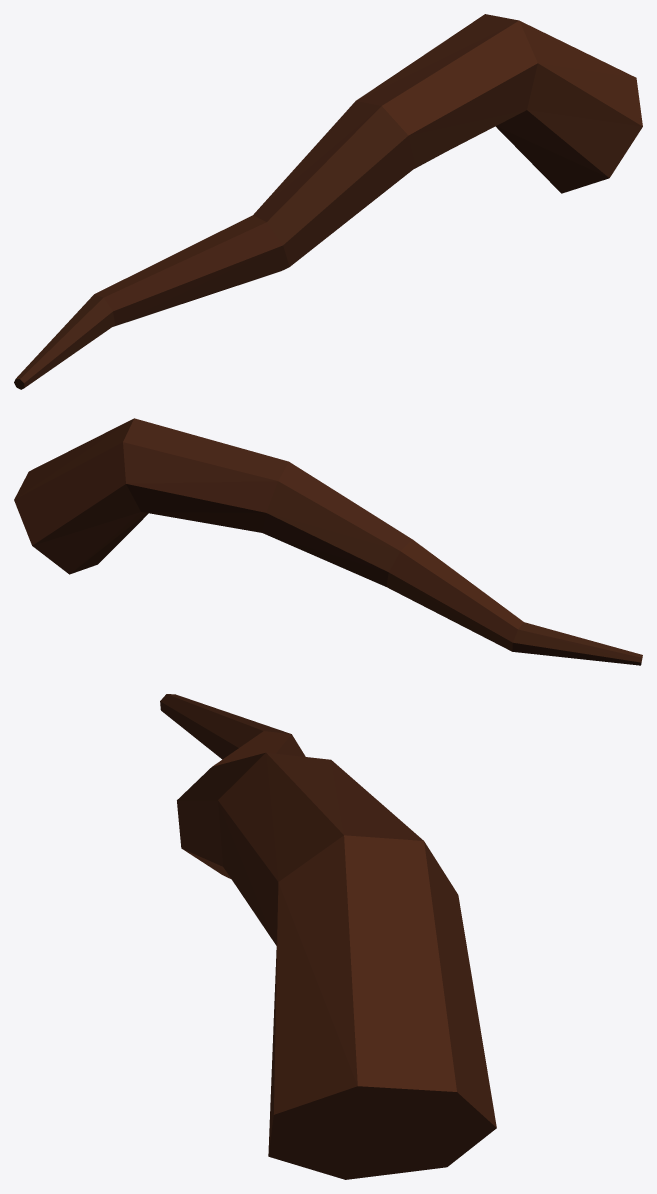
File: N16_Root_Arc.fbx
3 views of the same model, one above another, from view 1: azimuth 30°, elevation 25°; view 2: azimuth 150°, elevation 25°; view 3: azimuth 270°, elevation 25° (orthographic). The views are drawn at different scales.
Visible parts, largest first — view 1: N16_Root_Arc; view 2: N16_Root_Arc; view 3: N16_Root_Arc.
Part boxes in pixels (<box>): N16_Root_Arc: <box>14,14,642,389</box>; N16_Root_Arc: <box>14,418,642,665</box>; N16_Root_Arc: <box>160,694,496,1179</box>.
Size of the model in its own units: 1.76 by 0.4908 by 0.4523.
Materials: 1 (1 with a texture image).
